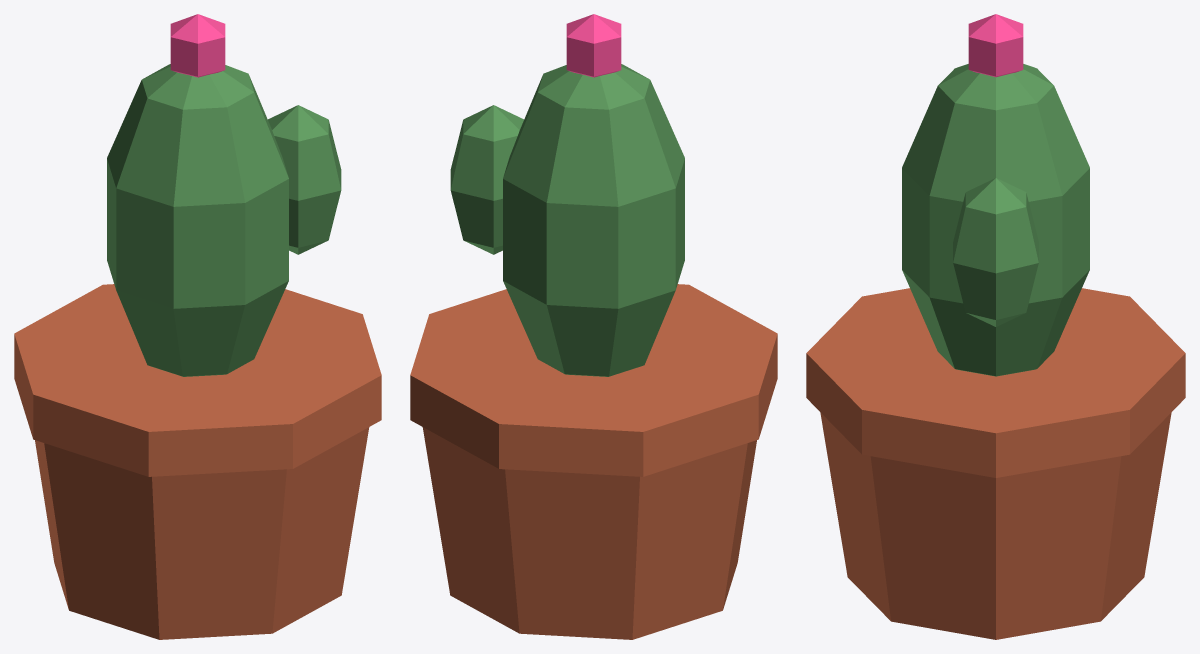
Rendered from plant_small.obj.
3 views of the same model, side by side, from view 1: azimuth 30°, elevation 25°; view 2: azimuth 150°, elevation 25°; view 3: azimuth 270°, elevation 25° (orthographic).
Parts seen in each view (by area): view 1: plant_small; view 2: plant_small; view 3: plant_small.
Boxes of the visible parts, x1,y1,x2,y2 form: plant_small: (14,14,381,639); plant_small: (410,14,777,639); plant_small: (806,14,1185,639).
Size of the model in its own units: 0.23 by 0.377 by 0.23.
